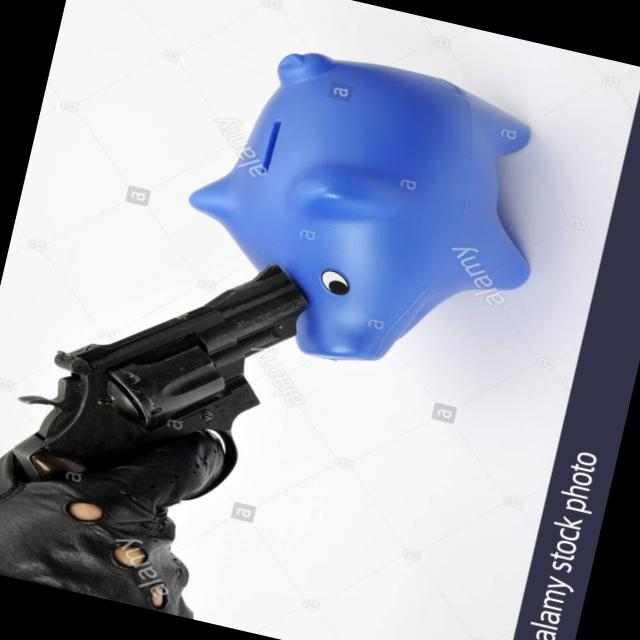handgun: (0, 206, 326, 590)
